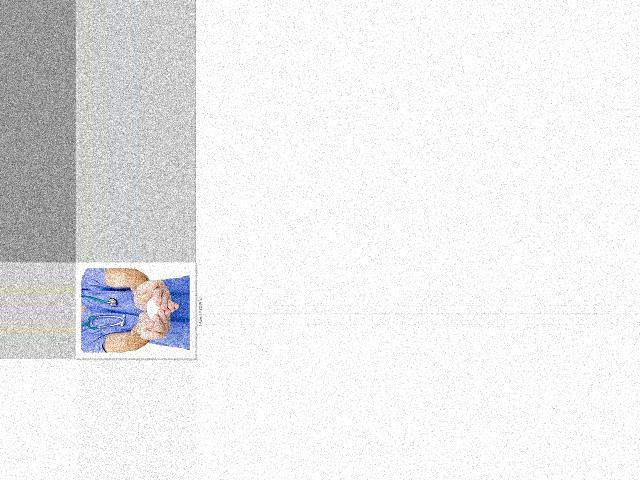egg: (146, 298, 160, 320)
